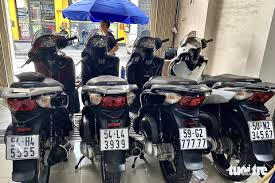Bien-so: (8, 134, 41, 160), (100, 128, 131, 152), (177, 127, 207, 151), (250, 121, 274, 142)
